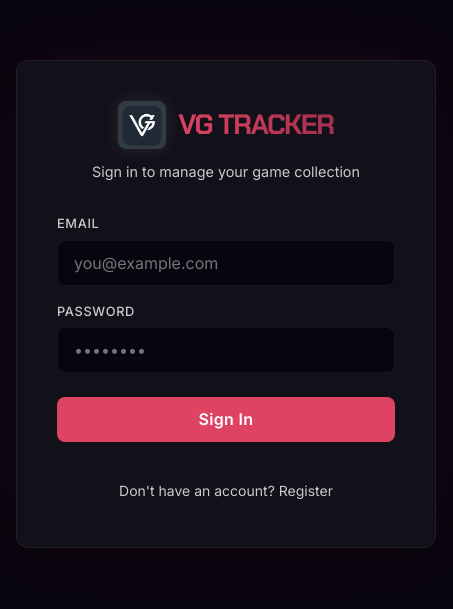
Test: LoginPage › toggles to register mode and submits correctly
The width and height of the screenshot is (453, 609).
# Toggle to register mode by clicking "Don't have an account? Register"
Click the button "Don't have an account? Register": (226, 491) [111,474,341,507]
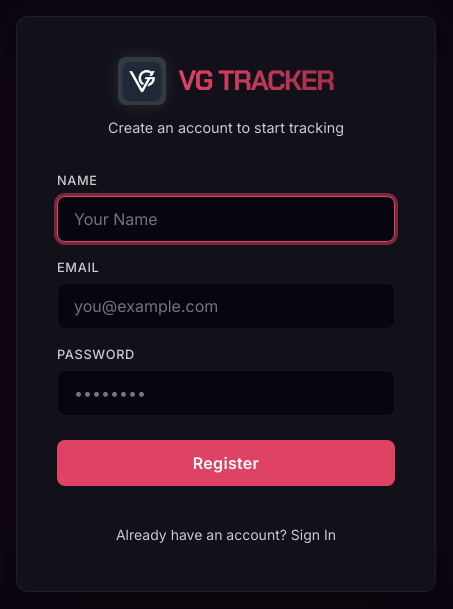
Now the text "Create an account to start tracking" is shown, box [108,119,344,136]
Now the button "Already have an account? Sign In" is shown, box [108,518,344,551]
# Fill form
In the field labelled "Name": (226, 219) [57,196,395,242], type "Test User"
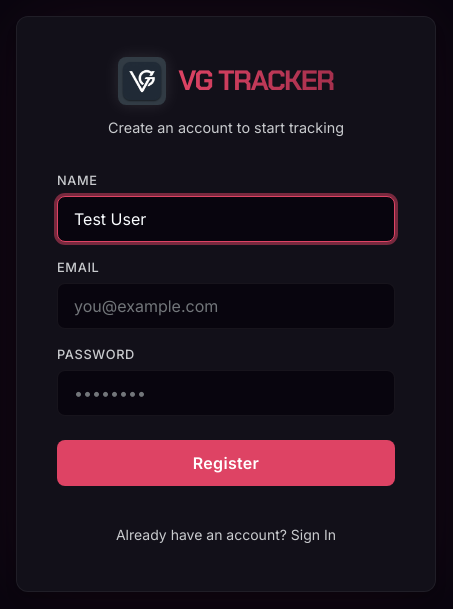
In the field labelled "Email": (226, 306) [57,283,395,329], type "new@example.com"
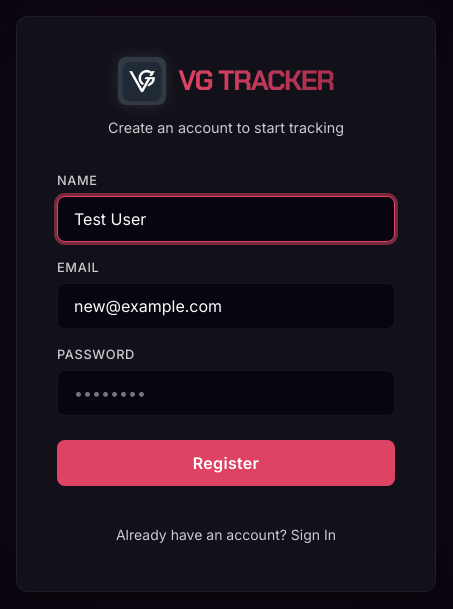
In the password field labelled "Password": (226, 393) [57,370,395,416], type "password123"
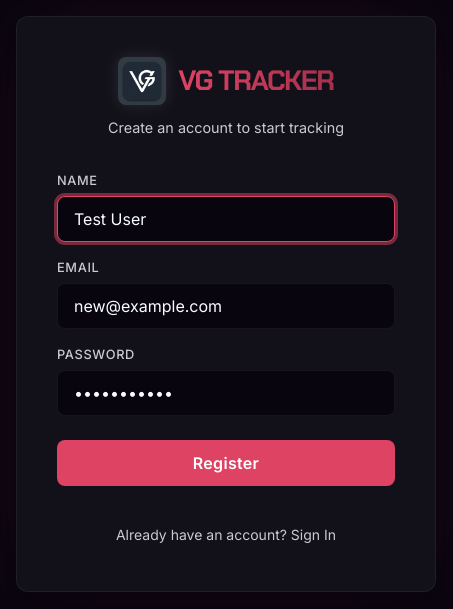
# Submit form
Click the button "Register": (226, 463) [57,440,395,486]
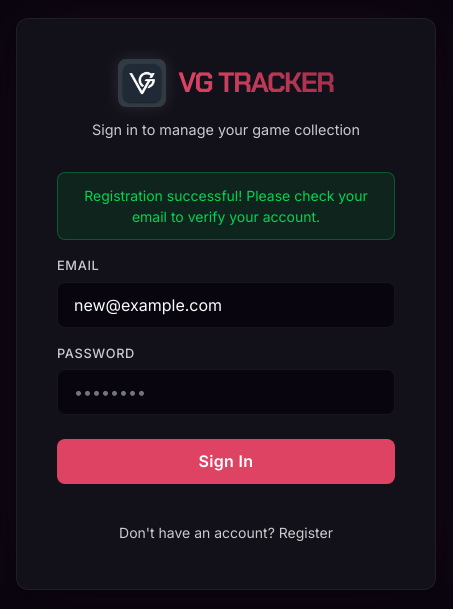
Now the text "Registration successful! Please check your email to verify your account." is shown, box [57,172,395,240]
